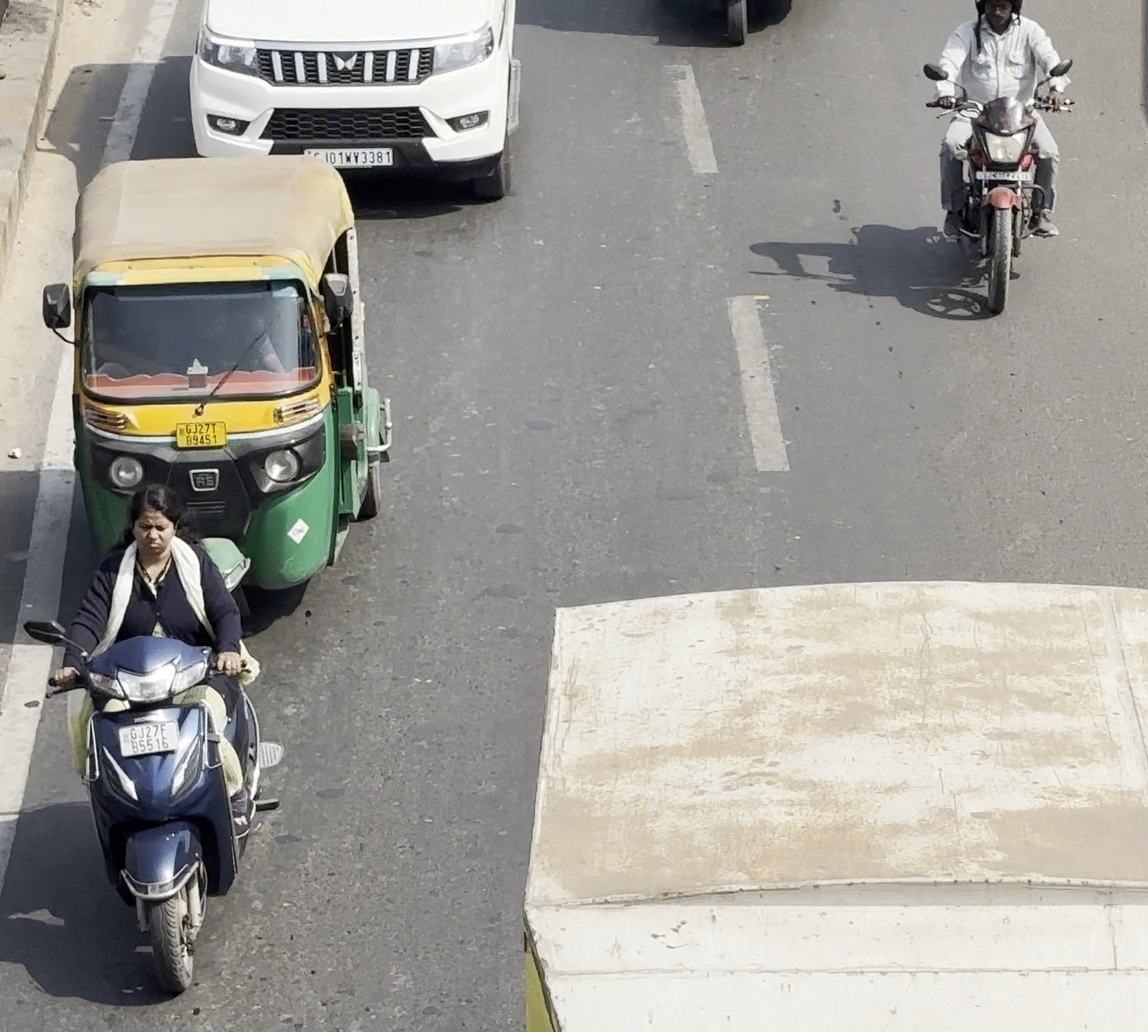BikeWithRider: (16, 472, 297, 1008), (918, 0, 1091, 327)
Helmet: (962, 0, 1034, 42)
NoHelmet: (112, 477, 191, 570)
